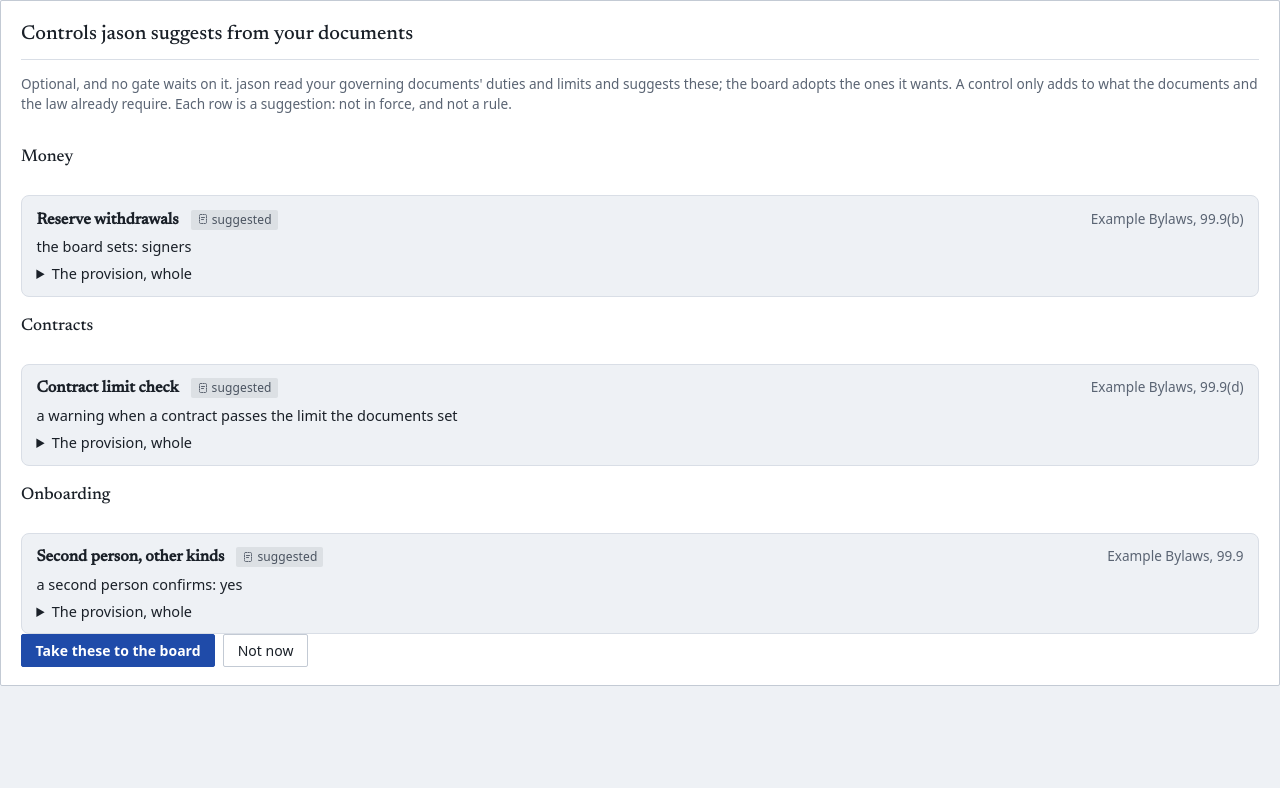
Test: the onboarding controls step › stops at a sign-in refusal and says the rest were not tried
Expected: the heading "Money" is shown, [21,149,73,165]
Click the button "Take these to the board" at {"x": 118, "y": 651}, box [21,634,215,668]
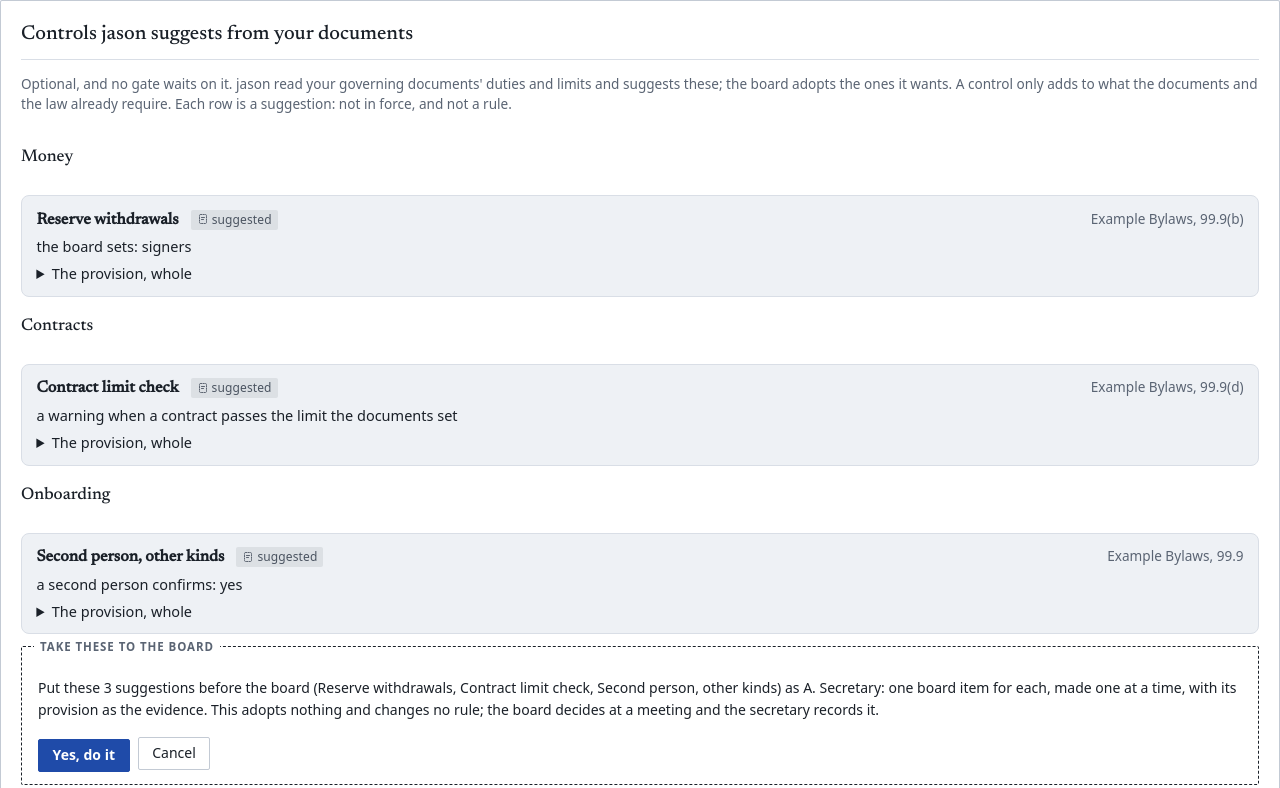
Click the button "Yes, do it" at {"x": 84, "y": 755}, box [38,739,130,772]
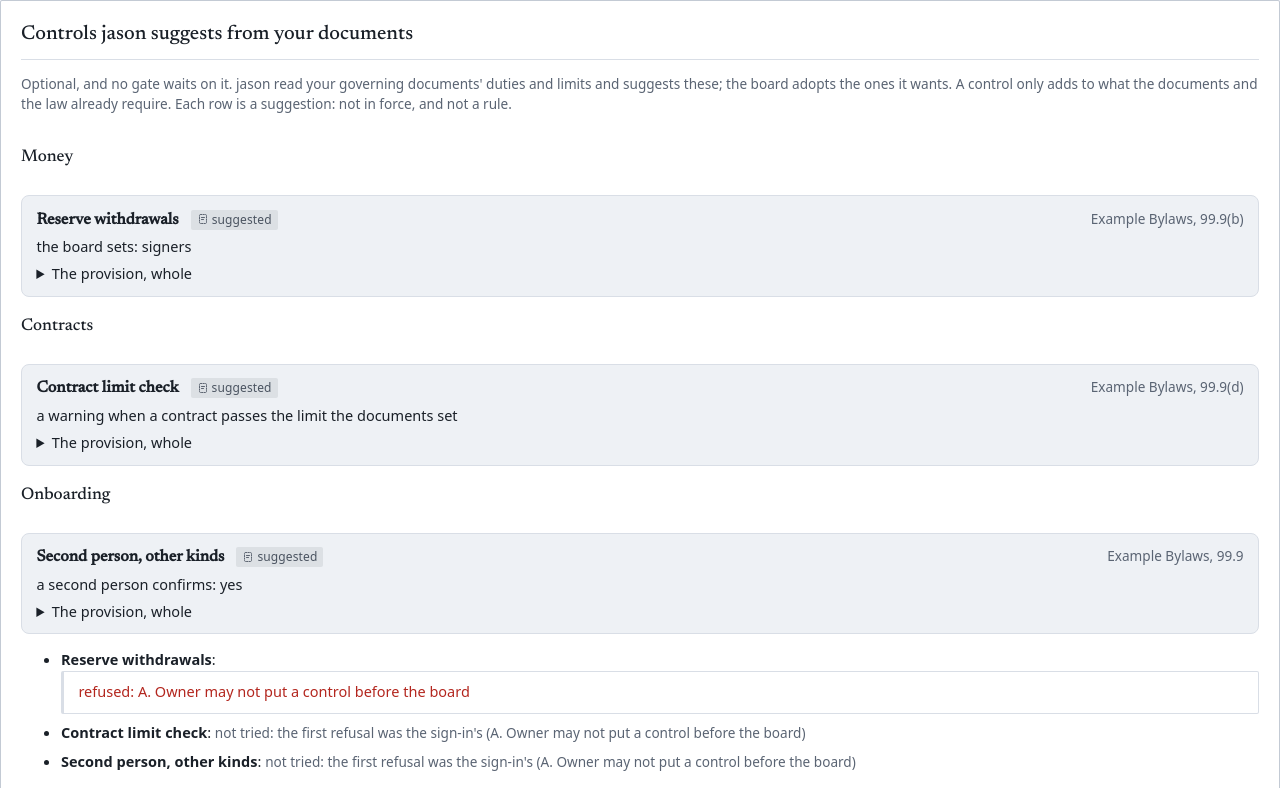
Expected: the 4th list item shows "refused: A. Owner may not put a control before the board", [61,649,1259,714]
Expected: the 5th list item shows "not tried", [215,723,277,742]
